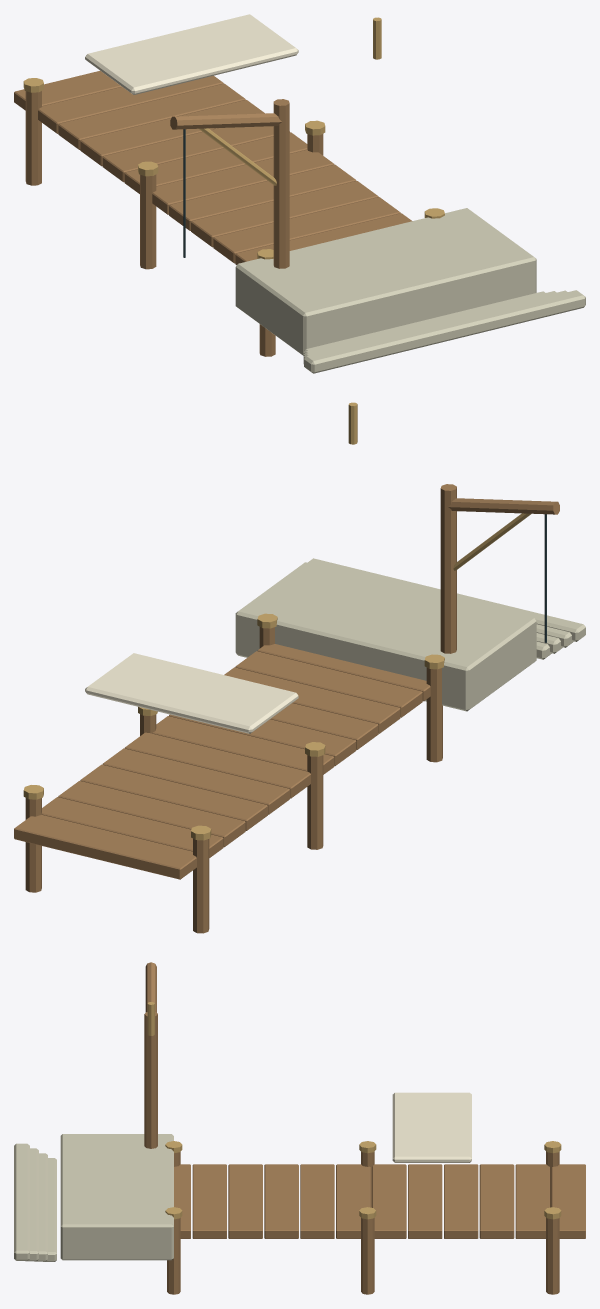
File: level_29.glb
3 views of the same model, one above another, from view 1: azimuth 30°, elevation 25°; view 2: azimuth 150°, elevation 25°; view 3: azimuth 270°, elevation 25° (orthographic). The views are drawn at different scales.
Visible parts, largest first — view 1: dock — level 29; view 2: dock — level 29; view 3: dock — level 29.
Boxes of the visible parts, x1=… form: dock — level 29: x1=14, y1=14, x2=585, y2=373; dock — level 29: x1=14, y1=402, x2=585, y2=933; dock — level 29: x1=14, y1=962, x2=585, y2=1294.
Bounding box in the file's own units: 5.45 × 5.06 × 10.09.
